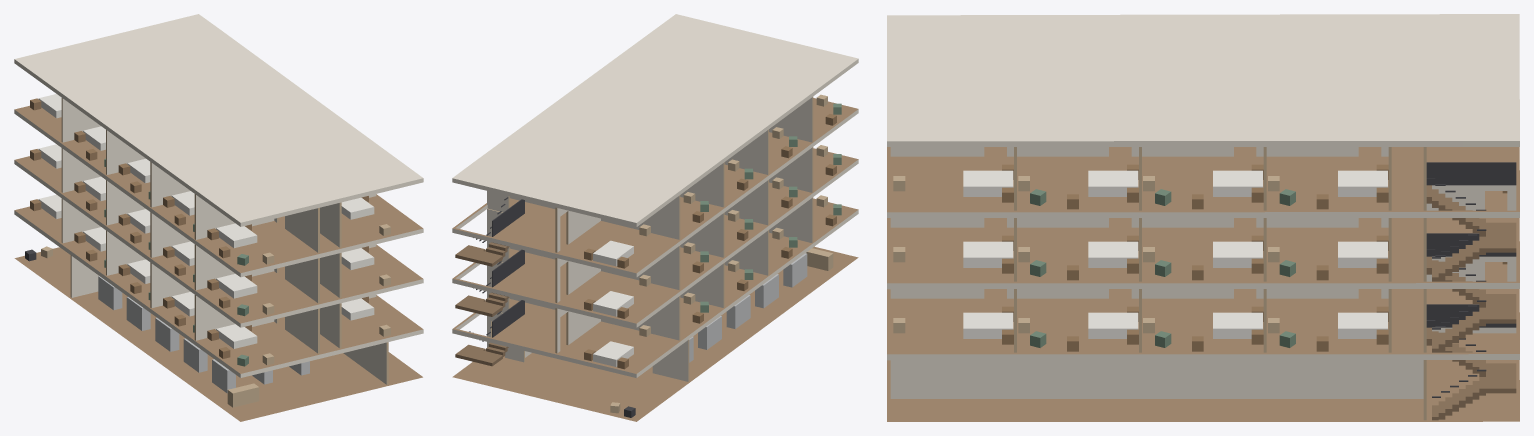
Rendered from interior.glb.
3 views of the same model, side by side, from view 1: azimuth 30°, elevation 25°; view 2: azimuth 150°, elevation 25°; view 3: azimuth 270°, elevation 25° (orthographic). The views are drawn at different scales.
Parts seen in each view (by area): view 1: slabs, partitions, coarse-s3, coarse-s1, coarse-s2, coarse-s0; view 2: slabs, partitions, stair, coarse-s0, coarse-s2, coarse-s1, coarse-s3; view 3: slabs, partitions, stair, coarse-s1, coarse-s2, coarse-s3.
Boxes of the visible parts, <box> form: slabs: <box>14,14,423,421</box>; partitions: <box>61,98,388,384</box>; coarse-s3: <box>30,94,390,265</box>; coarse-s1: <box>30,194,390,366</box>; coarse-s2: <box>30,144,390,316</box>; coarse-s0: <box>25,246,309,407</box>; slabs: <box>452,14,858,421</box>; partitions: <box>487,97,813,381</box>; stair: <box>455,197,524,366</box>; coarse-s0: <box>610,248,833,417</box>; coarse-s2: <box>584,145,841,318</box>; coarse-s1: <box>584,195,841,369</box>; coarse-s3: <box>584,94,841,268</box>; slabs: <box>887,14,1519,421</box>; partitions: <box>890,147,1516,420</box>; stair: <box>1426,162,1516,420</box>; coarse-s1: <box>893,262,1507,351</box>; coarse-s2: <box>893,191,1507,280</box>; coarse-s3: <box>893,164,1388,209</box>.
Bounding box in the file's own units: 12.01 × 12.38 × 25.25.
